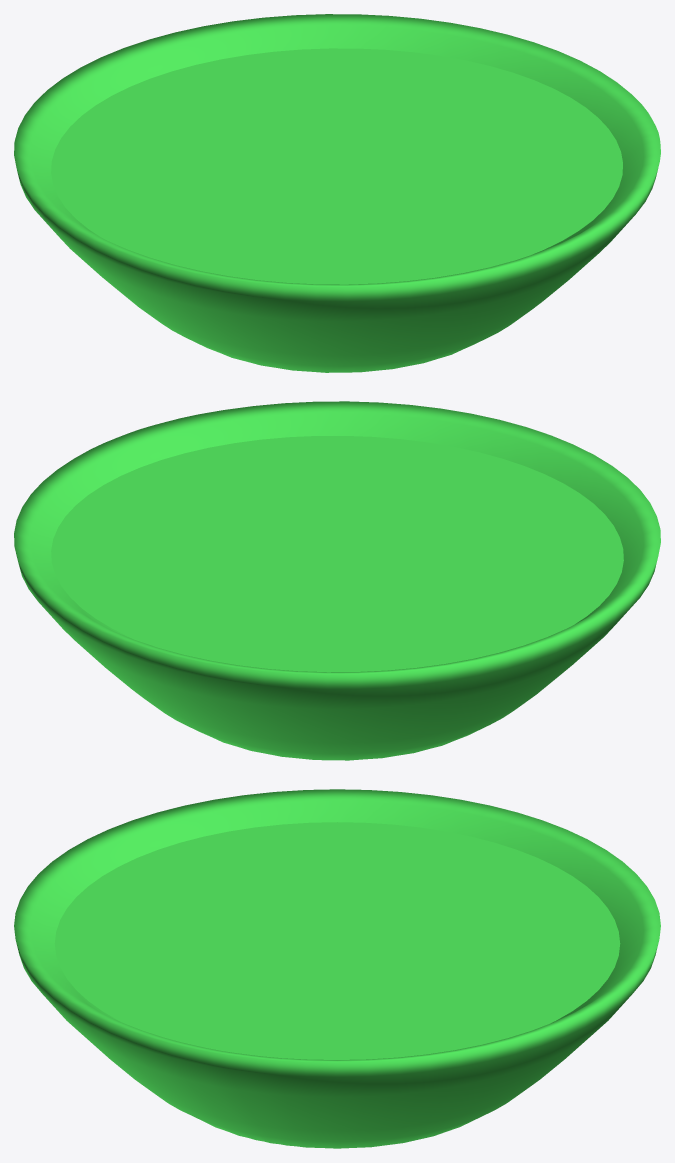
File: bowl.fbx
3 views of the same model, one above another, from view 1: azimuth 30°, elevation 25°; view 2: azimuth 150°, elevation 25°; view 3: azimuth 270°, elevation 25° (orthographic).
Parts seen in each view (by area): view 1: Cylinder.001, Cylinder; view 2: Cylinder.001, Cylinder; view 3: Cylinder.001, Cylinder.
Part boxes in pixels (x1,y1,x2,y2): Cylinder.001: (51,48,622,284); Cylinder: (14,14,660,372); Cylinder.001: (51,436,623,672); Cylinder: (14,401,660,760); Cylinder.001: (54,822,620,1059); Cylinder: (14,789,660,1148).
Size of the model in its own units: 443 by 129 by 443.
